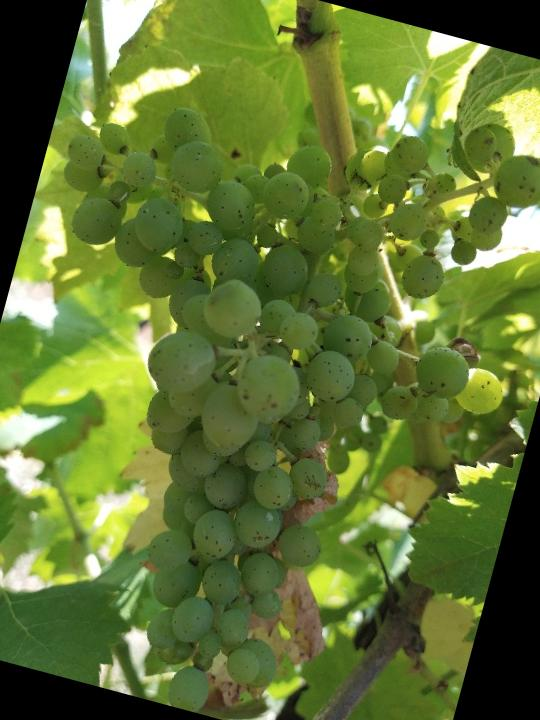grape: (0, 20, 540, 720)
